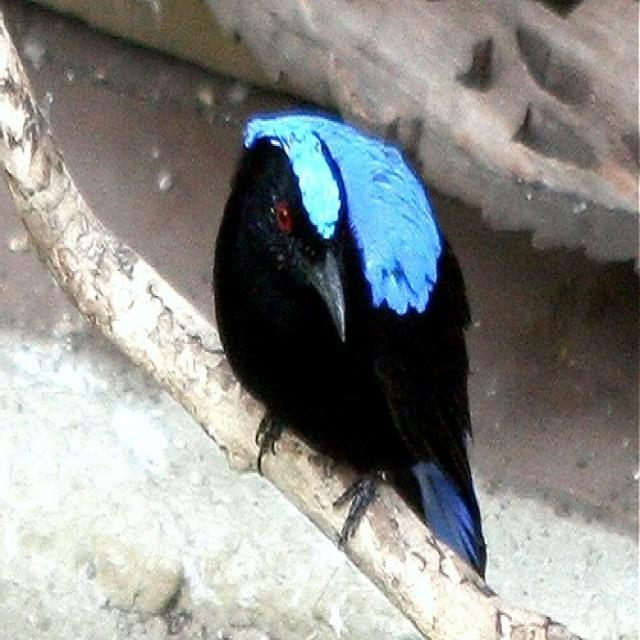bird: (211, 110, 488, 588)
